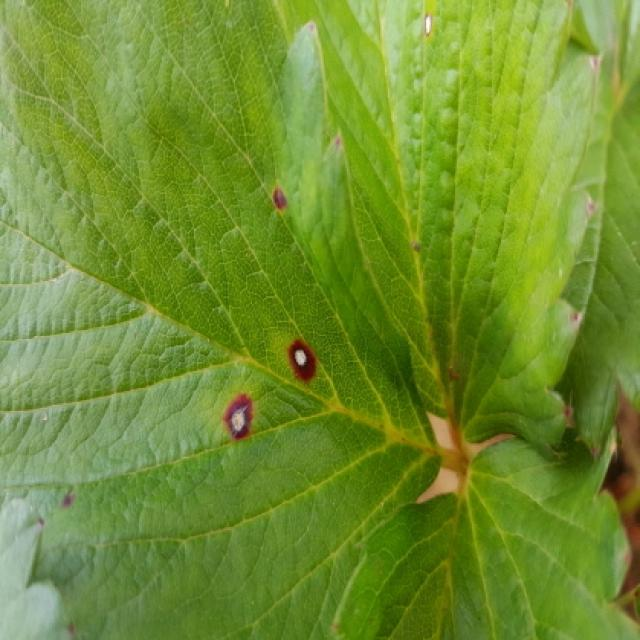Leaf Spot: (2, 0, 443, 638), (273, 0, 603, 463)
